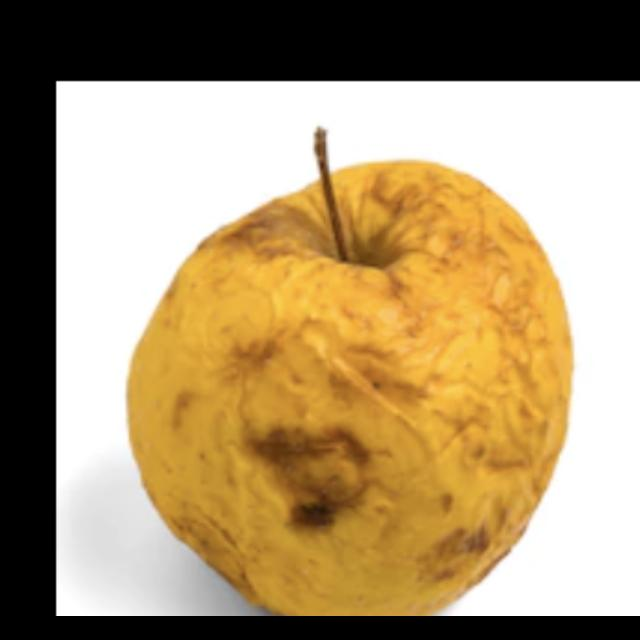Apel Tidak Segar: (98, 116, 608, 614)
